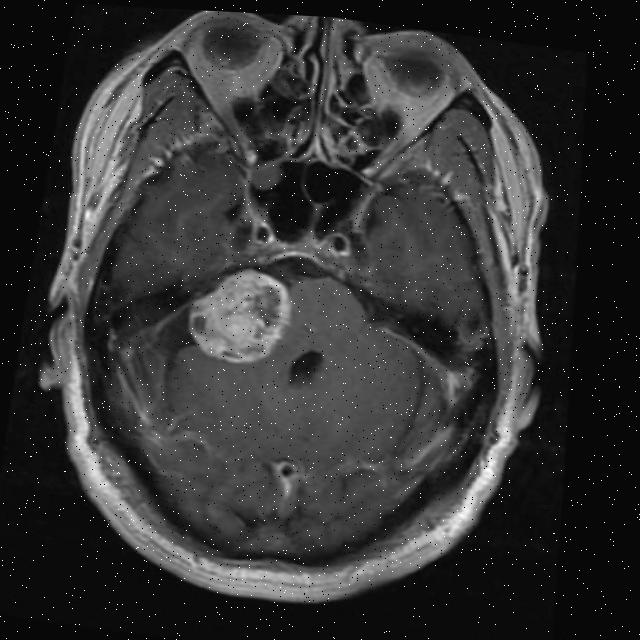Meningioma: (182, 260, 296, 374)
